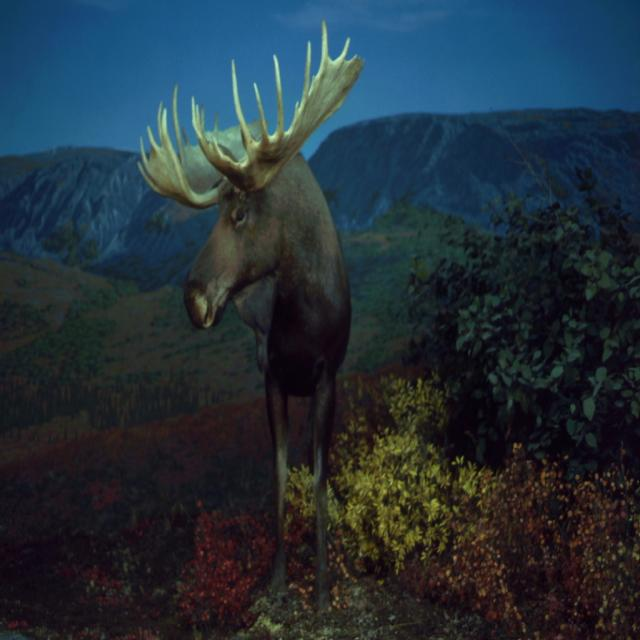Deer: (135, 18, 366, 612)
